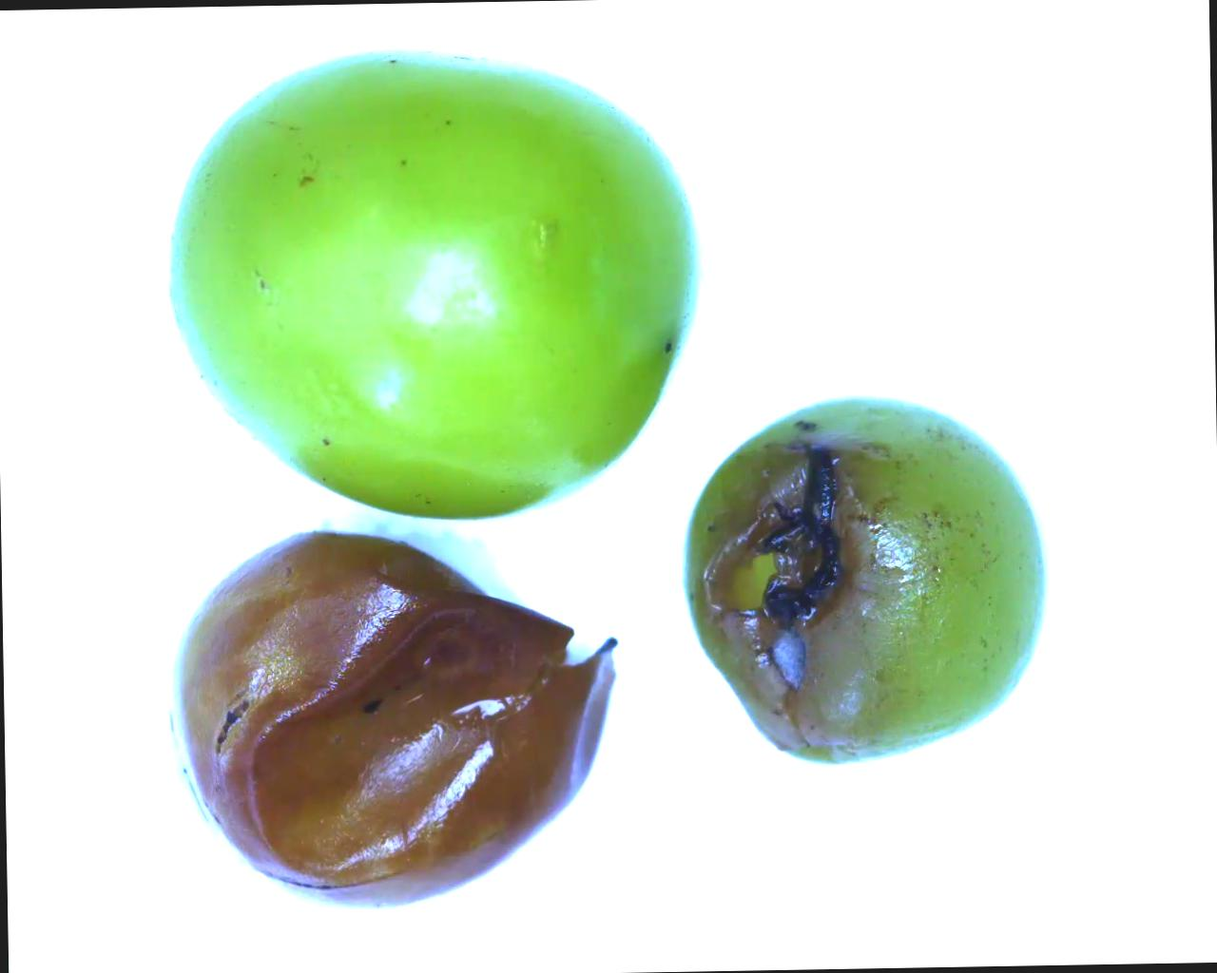Grape Rotten: (163, 521, 623, 912), (677, 390, 1050, 769)
Grape Unripe: (160, 41, 704, 526)
